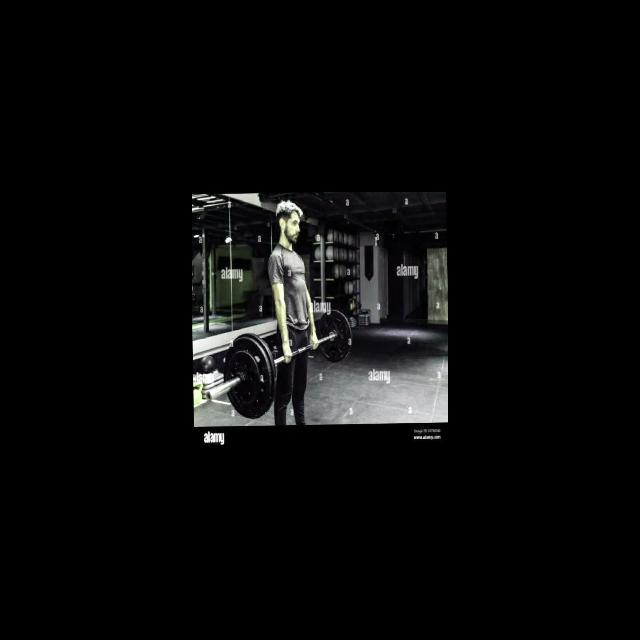barbell: (220, 329, 280, 418)
